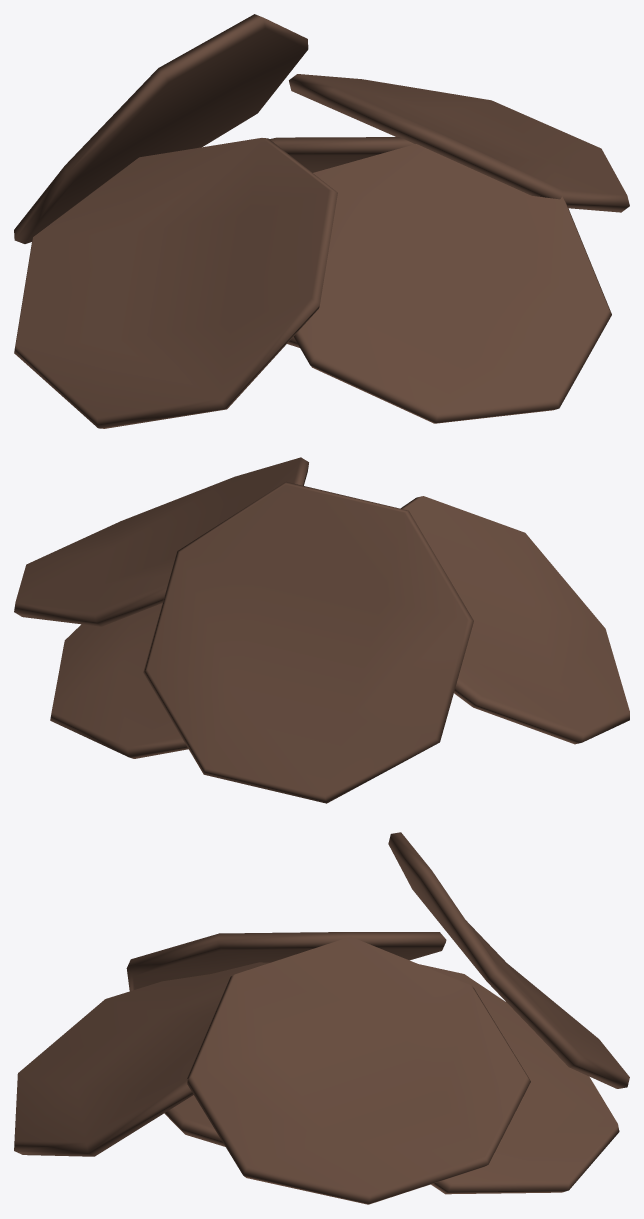
Rendered from fries.fbx.
3 renders of one model, top to bottom at view 1: azimuth 30°, elevation 25°; view 2: azimuth 150°, elevation 25°; view 3: azimuth 270°, elevation 25°, orthographic. The views are drawn at different scales.
Visible parts, largest first — view 1: fry7; view 2: fry7; view 3: fry7.
Part boxes in pixels (bbox=[...]): fry7: bbox=[14, 14, 629, 428]; fry7: bbox=[14, 457, 629, 803]; fry7: bbox=[14, 832, 629, 1204].
Bounding box in the file's own units: 0.341 × 0.1496 × 0.3209.
Materials: 1 (1 with a texture image).
